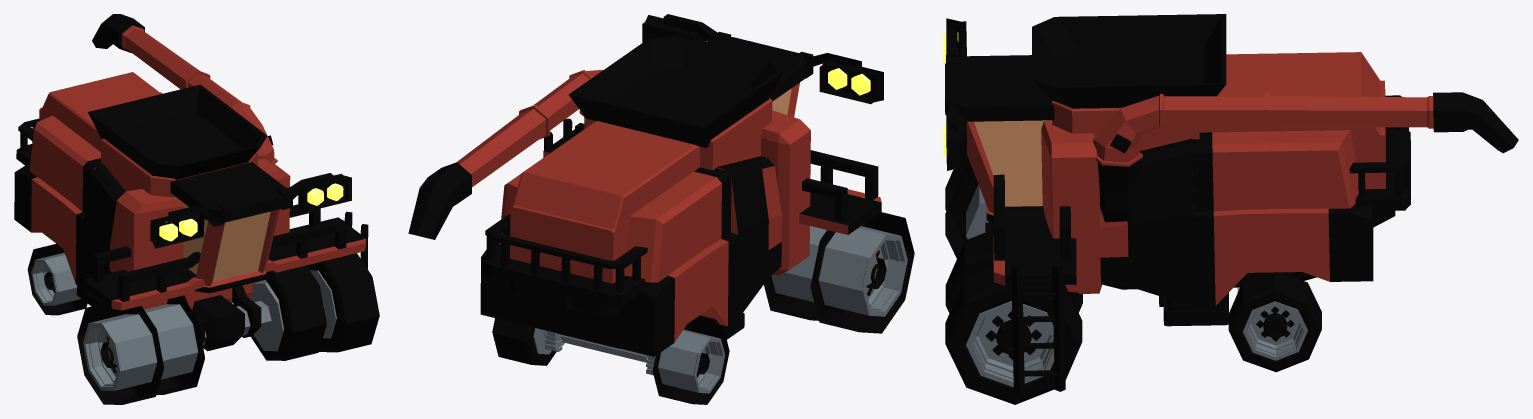
File: combine_harvester_c.glb
The picture shows the model from 3 angles, left to right: view 1: azimuth 30°, elevation 25°; view 2: azimuth 150°, elevation 25°; view 3: azimuth 270°, elevation 25°; orthographic projection. The views are drawn at different scales.
Parts seen in each view (by area): view 1: Cube.190_Black.003_0, Cube.156_Red.003_0, Cube.195_Red.003_0, Cube.155_Black.003_0, Cube.162_Black.003_0, Cube.200_Metal.003_0, Cube.161_Black.003_0, Cube.188_Red.003_0, Cube.192_Red.003_0, Cube.155_Window.003_0, Cube.157_Black.003_0, Cube.191_Black.003_0 (+21 smaller); view 2: Cube.188_Red.003_0, Cube.190_Black.003_0, Cube.156_Red.003_0, Cube.156_Black.003_0, Cube.200_Metal.003_0, Cube.195_Red.003_0, Cube.157_Black.003_0, Cube.192_Red.003_0, Cube.164_Black.003_0, Cube.178_Black.003_0, Cube.198_Metal.003_0, Cube.193_Black.003_0 (+18 smaller); view 3: Cube.156_Red.003_0, Cube.190_Black.003_0, Cube.192_Red.003_0, Cube.157_Black.003_0, Cube.188_Red.003_0, Cube.195_Red.003_0, Cube.156_Black.003_0, Cube.162_Black.003_0, Cube.155_Black.003_0, Cube.160_Black.003_0, Cube.155_Window.003_0, Cube.191_Black.003_0 (+19 smaller).
Boxes of the visible parts, x1,y1,x2,y2 form: Cube.190_Black.003_0: [88, 84, 267, 179]; Cube.156_Red.003_0: [29, 92, 162, 282]; Cube.195_Red.003_0: [116, 159, 290, 309]; Cube.155_Black.003_0: [170, 162, 285, 293]; Cube.162_Black.003_0: [307, 253, 379, 352]; Cube.200_Metal.003_0: [83, 314, 157, 390]; Cube.161_Black.003_0: [251, 265, 326, 360]; Cube.188_Red.003_0: [39, 72, 161, 151]; Cube.192_Red.003_0: [121, 25, 277, 163]; Cube.155_Window.003_0: [183, 203, 270, 281]; Cube.157_Black.003_0: [83, 164, 125, 291]; Cube.191_Black.003_0: [83, 217, 365, 308]; Cube.188_Red.003_0: [510, 121, 699, 283]; Cube.190_Black.003_0: [568, 35, 783, 147]; Cube.156_Red.003_0: [499, 171, 728, 342]; Cube.156_Black.003_0: [480, 167, 738, 356]; Cube.200_Metal.003_0: [818, 226, 907, 316]; Cube.195_Red.003_0: [761, 110, 810, 275]; Cube.157_Black.003_0: [717, 156, 781, 320]; Cube.192_Red.003_0: [457, 69, 602, 187]; Cube.164_Black.003_0: [810, 212, 914, 333]; Cube.178_Black.003_0: [483, 249, 644, 305]; Cube.198_Metal.003_0: [658, 329, 725, 393]; Cube.193_Black.003_0: [408, 162, 471, 239]; Cube.156_Red.003_0: [1212, 130, 1358, 305]; Cube.190_Black.003_0: [1032, 14, 1226, 108]; Cube.192_Red.003_0: [1093, 93, 1433, 166]; Cube.157_Black.003_0: [1100, 138, 1195, 307]; Cube.188_Red.003_0: [1199, 52, 1385, 189]; Cube.195_Red.003_0: [1041, 120, 1102, 293]; Cube.156_Black.003_0: [1191, 132, 1373, 306]; Cube.162_Black.003_0: [945, 267, 1082, 404]; Cube.155_Black.003_0: [945, 55, 1054, 222]; Cube.160_Black.003_0: [1228, 272, 1321, 372]; Cube.155_Window.003_0: [974, 120, 1051, 206]; Cube.191_Black.003_0: [1005, 206, 1076, 285].
Size of the model in its own units: 369 by 285 by 536.
